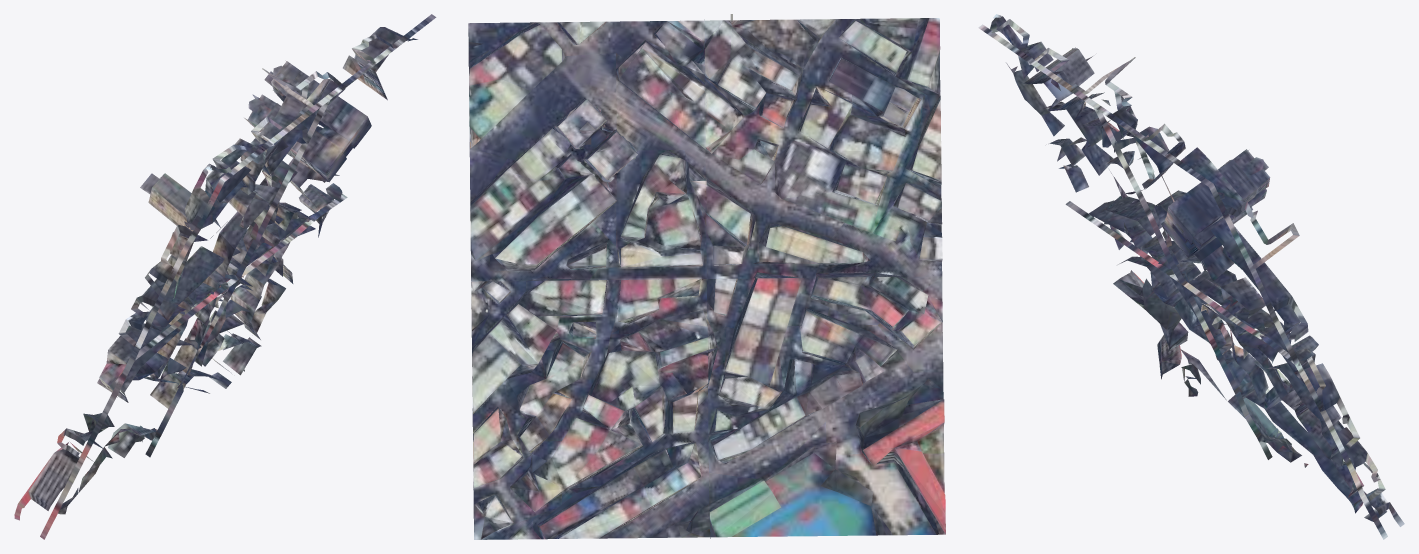
3 views of the same model, side by side, from view 1: azimuth 30°, elevation 25°; view 2: azimuth 150°, elevation 25°; view 3: azimuth 270°, elevation 25° (orthographic). The views are drawn at different scales.
Bounding box in the file's own units: 316 × 299 × 268.
Materials: 1 (1 with a texture image).
